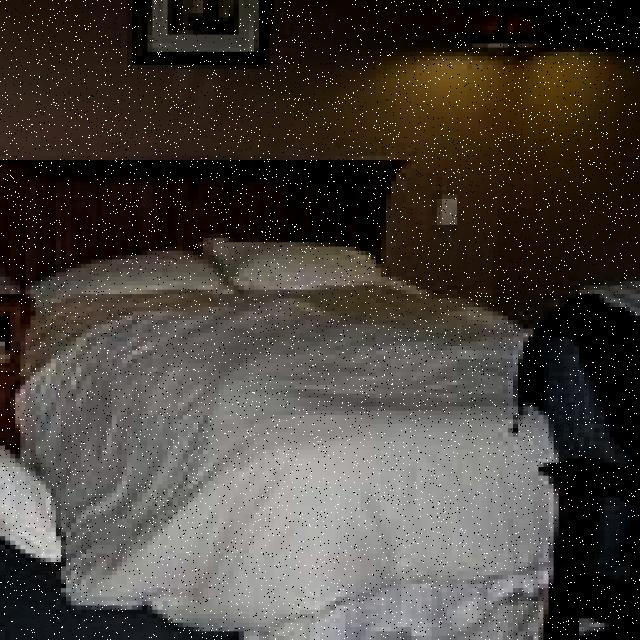bed: (0, 235, 553, 640)
